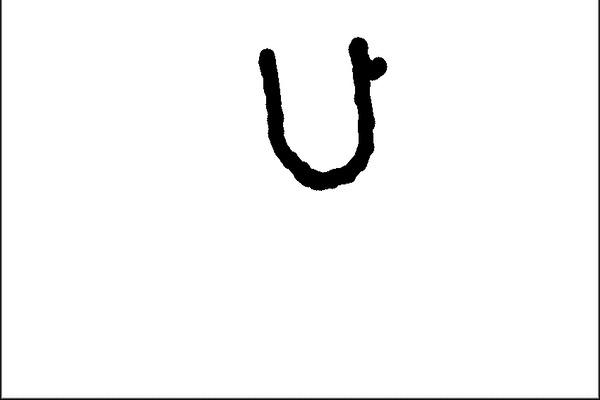U: (251, 29, 392, 192)
